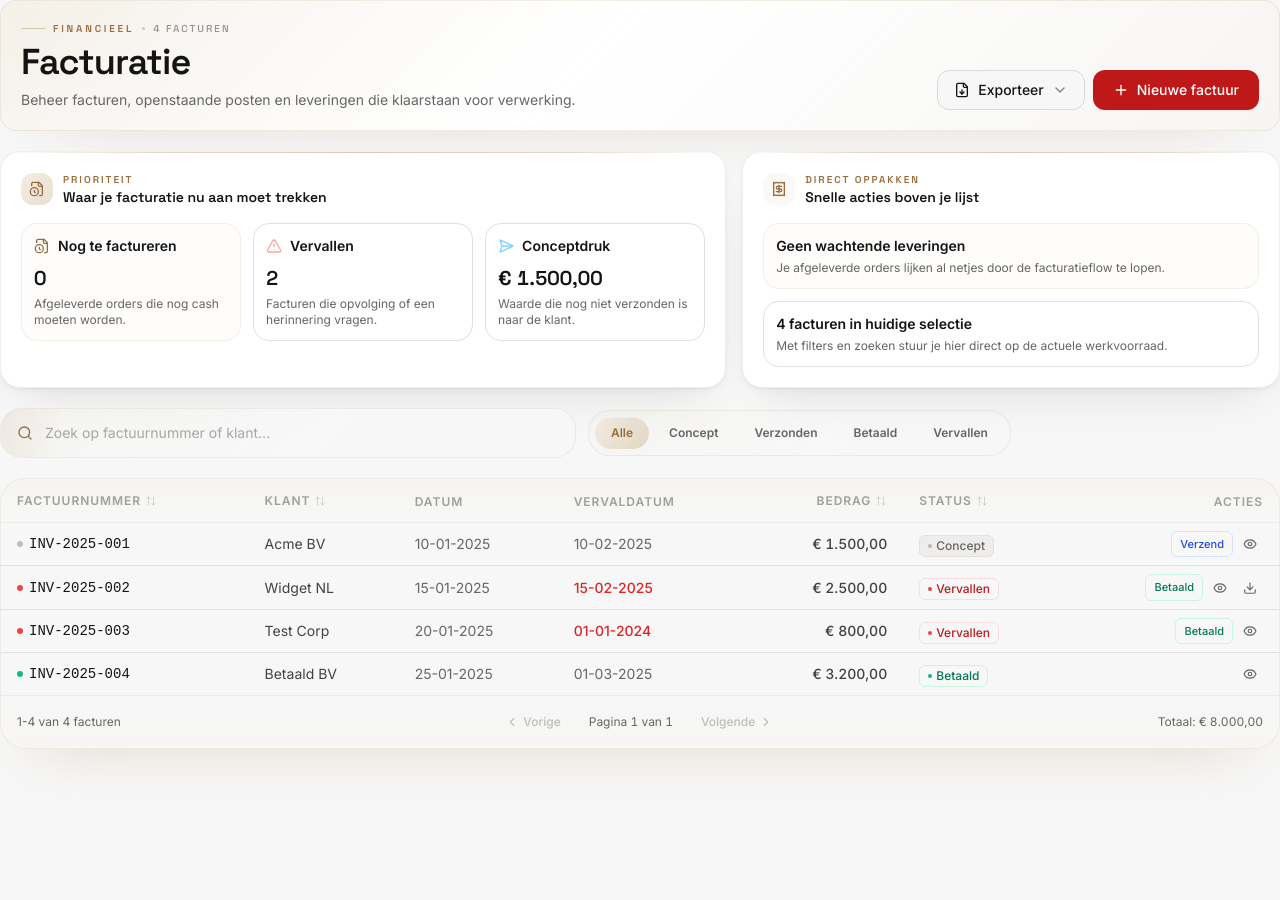
it: Facturatie › opens new invoice dialog (setShowNewInvoice)
The image size is (1280, 900).
Click the button "Nieuwe factuur": (1176, 90) [1093, 70, 1259, 110]
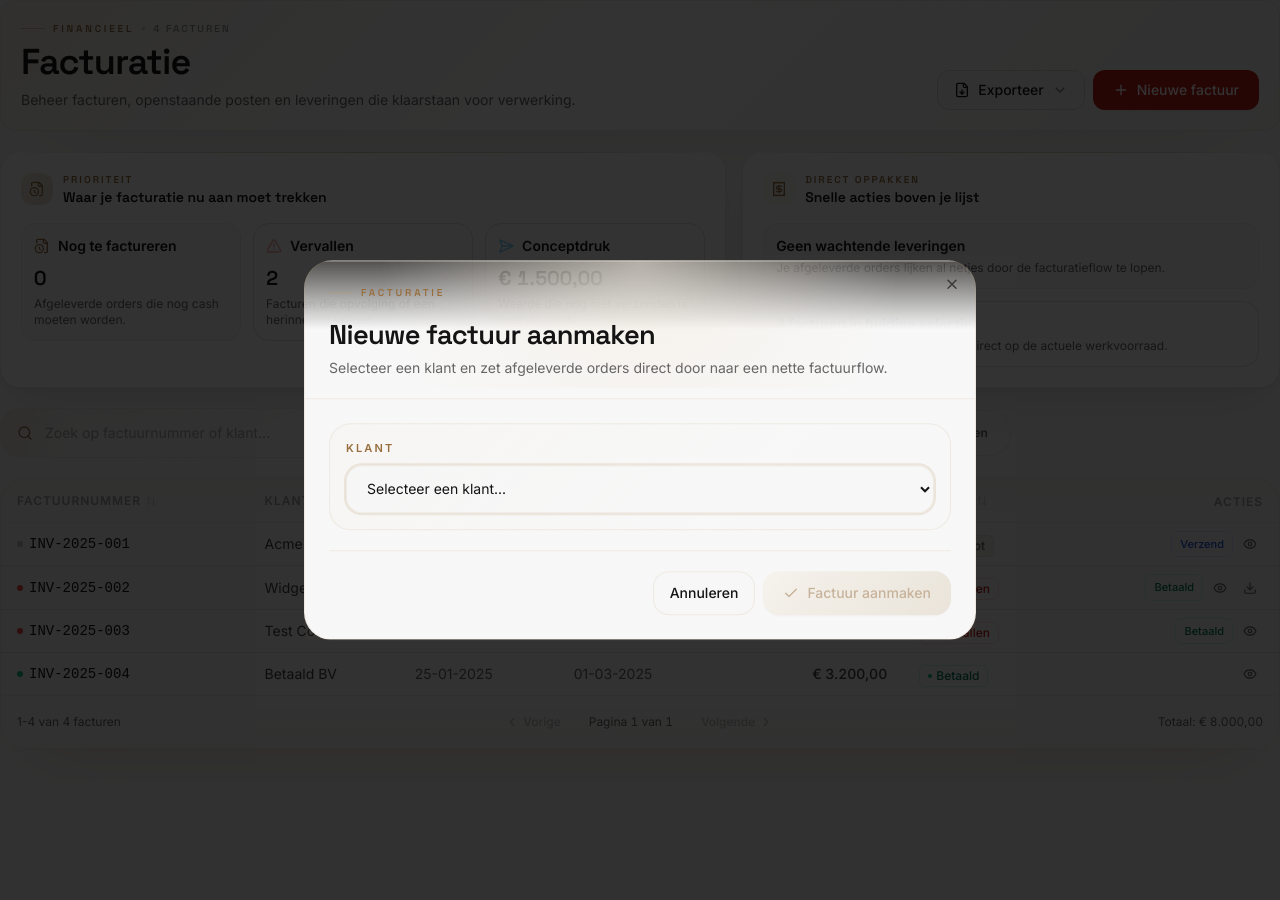
Result: the heading "Nieuwe factuur aanmaken" is shown at [329, 317, 655, 352]
